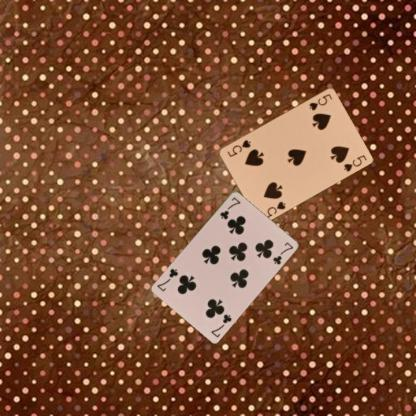5s: (260, 198, 286, 220), (307, 92, 333, 112)
7c: (217, 194, 242, 221), (208, 312, 233, 338)
